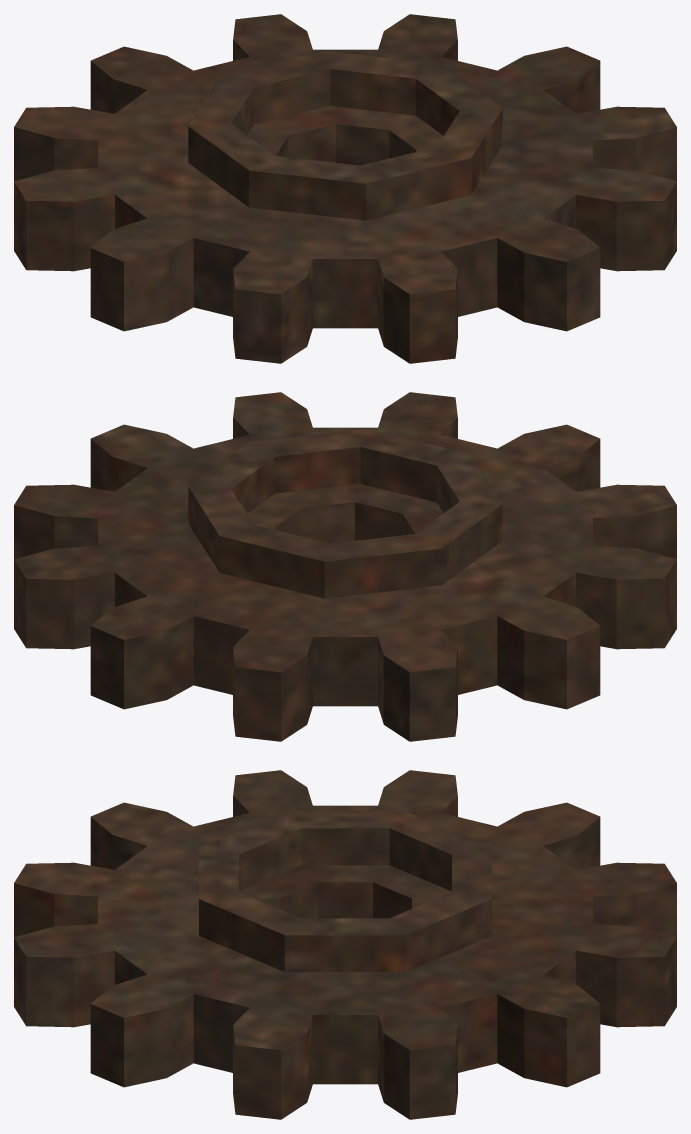
The model's file is gear_mx_3.obj.
3 views of the same model, one above another, from view 1: azimuth 30°, elevation 25°; view 2: azimuth 150°, elevation 25°; view 3: azimuth 270°, elevation 25° (orthographic).
Visible parts, largest first — view 1: gear_mx_3; view 2: gear_mx_3; view 3: gear_mx_3.
Part boxes in pixels (x1,y1,x2,y2): gear_mx_3: (14, 14, 676, 363); gear_mx_3: (14, 392, 676, 741); gear_mx_3: (14, 770, 676, 1119).
Size of the model in its own units: 0.1626 by 0.0368 by 0.1626.
